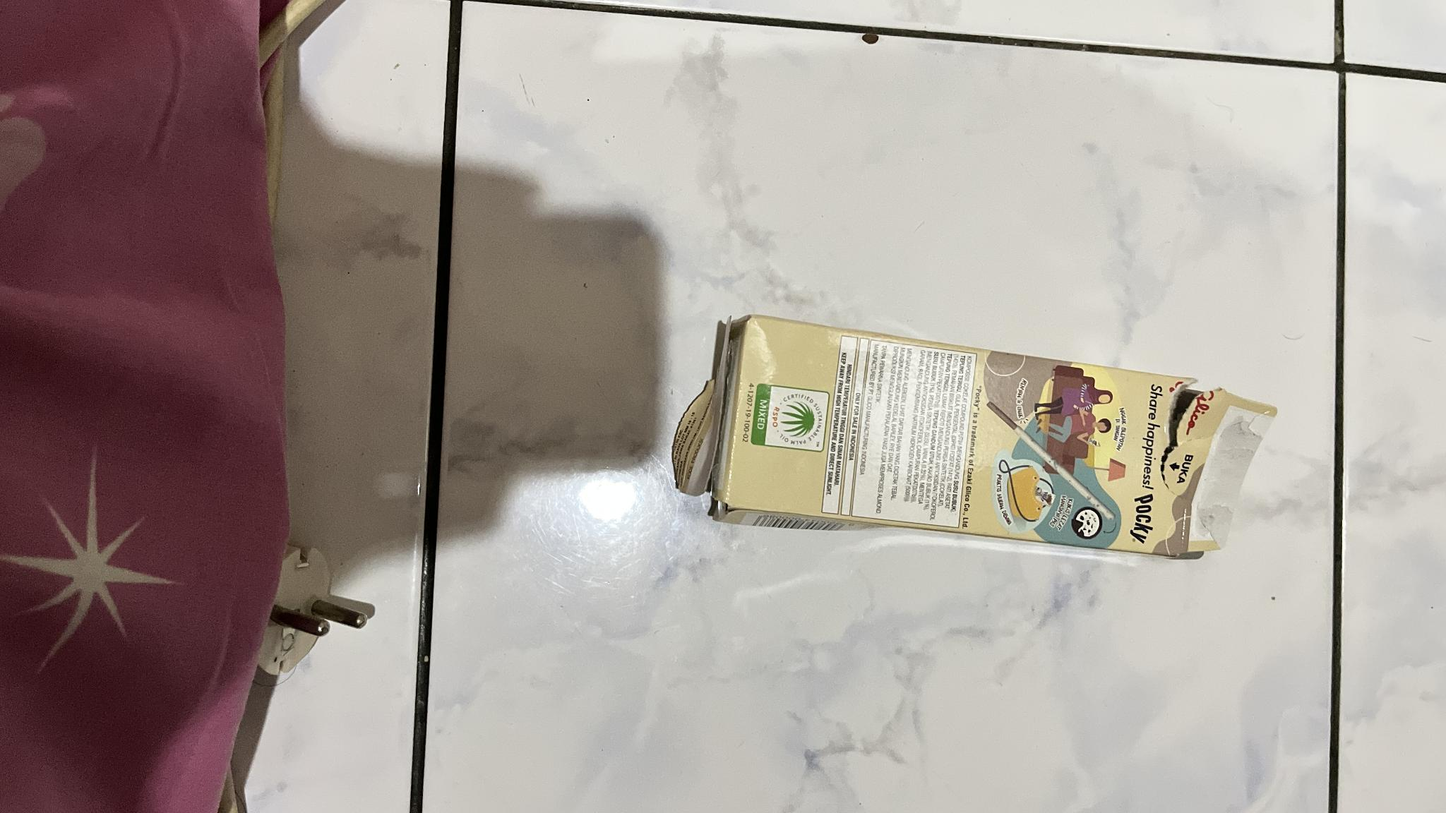Kertas: (713, 313, 1225, 535)
